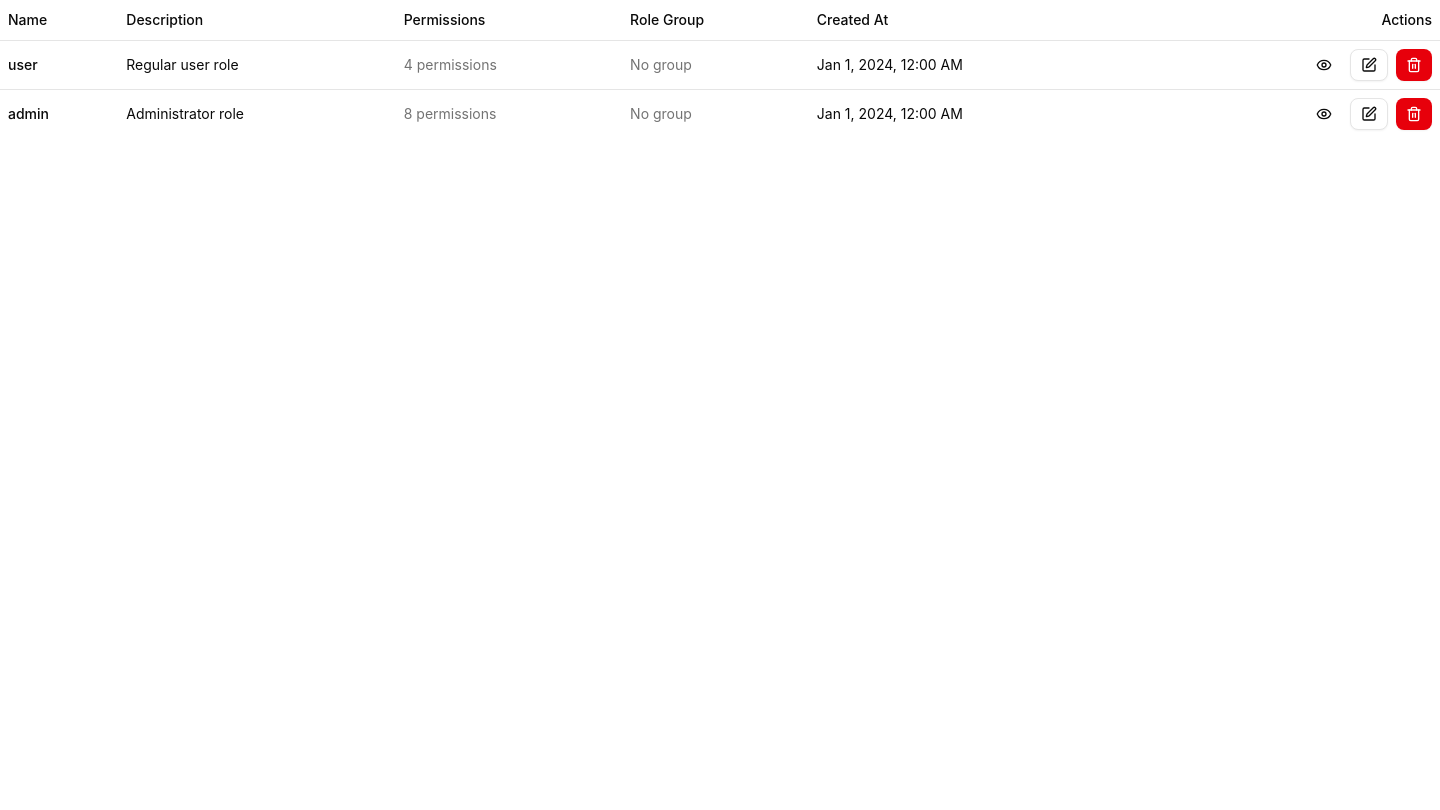
Test case: RoleList Component › Delete Functionality › opens delete dialog when delete button is clicked
Click the button with test id "delete-role-button".
click(1414, 64)  # box [1396, 48, 1432, 80]
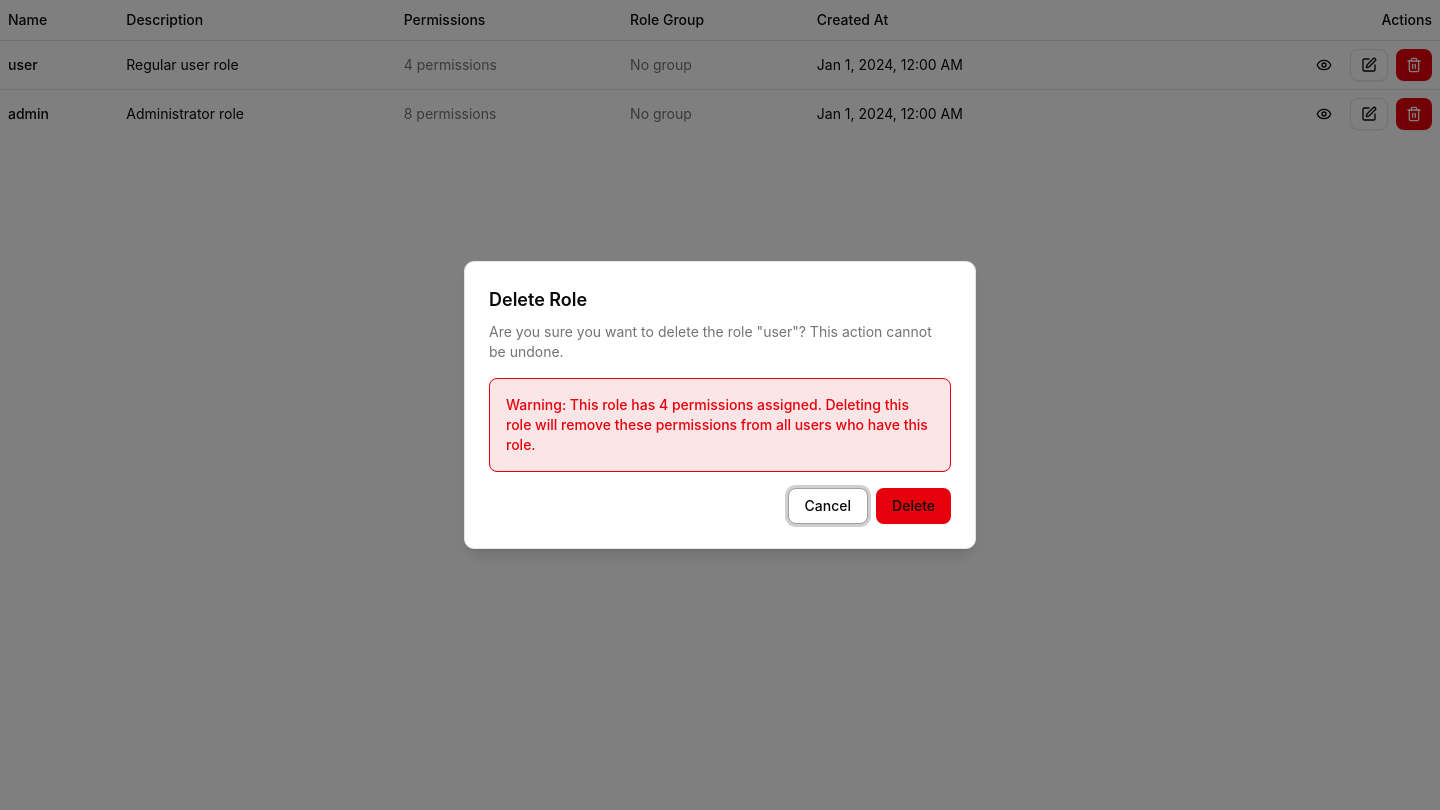
Expected: the heading "Delete Role" is shown, [489, 289, 587, 310]
Expected: the text "Are you sure you want to delete the role \"user\"" is shown, [489, 322, 951, 362]
